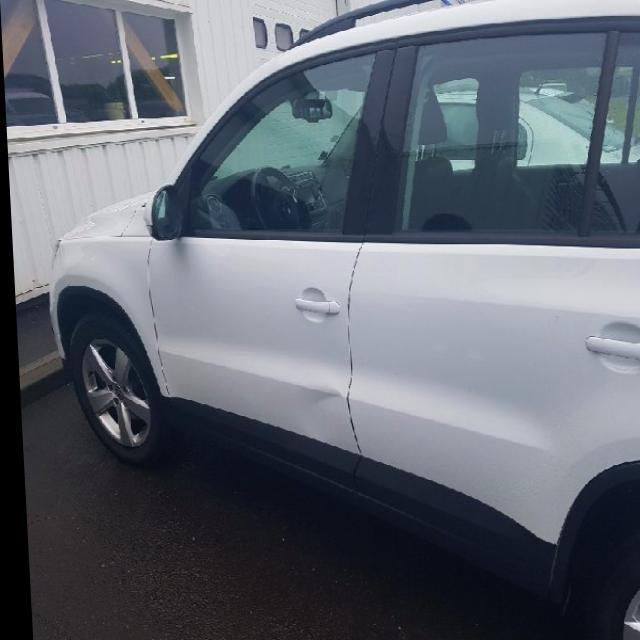porte-avant: (132, 37, 418, 515)
